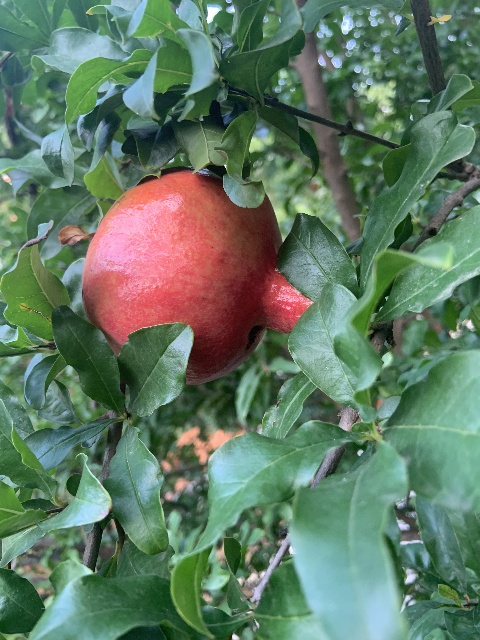ripe: (80, 170, 312, 382)
